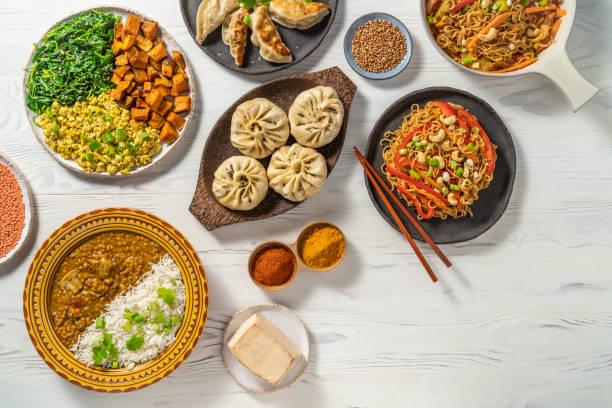Braised Crucian Carp: (22, 207, 207, 393), (22, 3, 196, 177), (189, 67, 355, 231), (364, 86, 516, 245), (423, 0, 580, 77), (181, 0, 338, 75)
